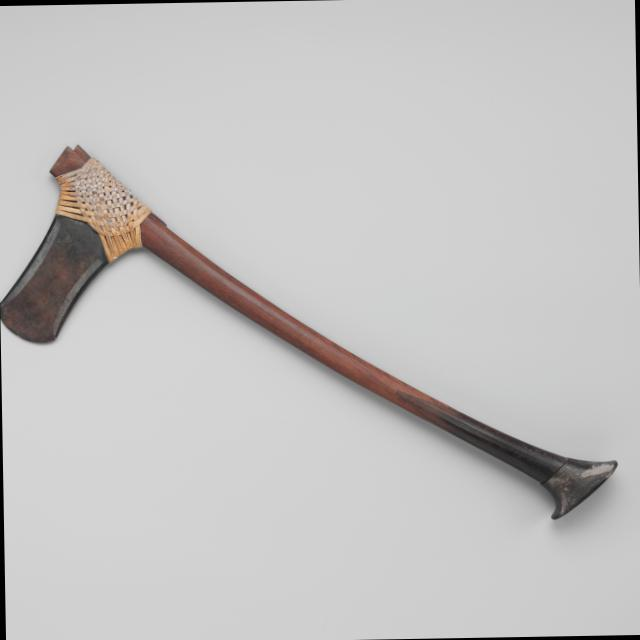Gun: (0, 116, 620, 542)
